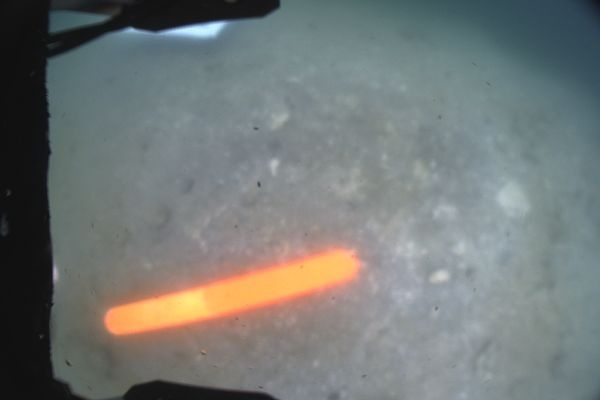bin: (123, 20, 225, 40)
path: (106, 248, 362, 332)
